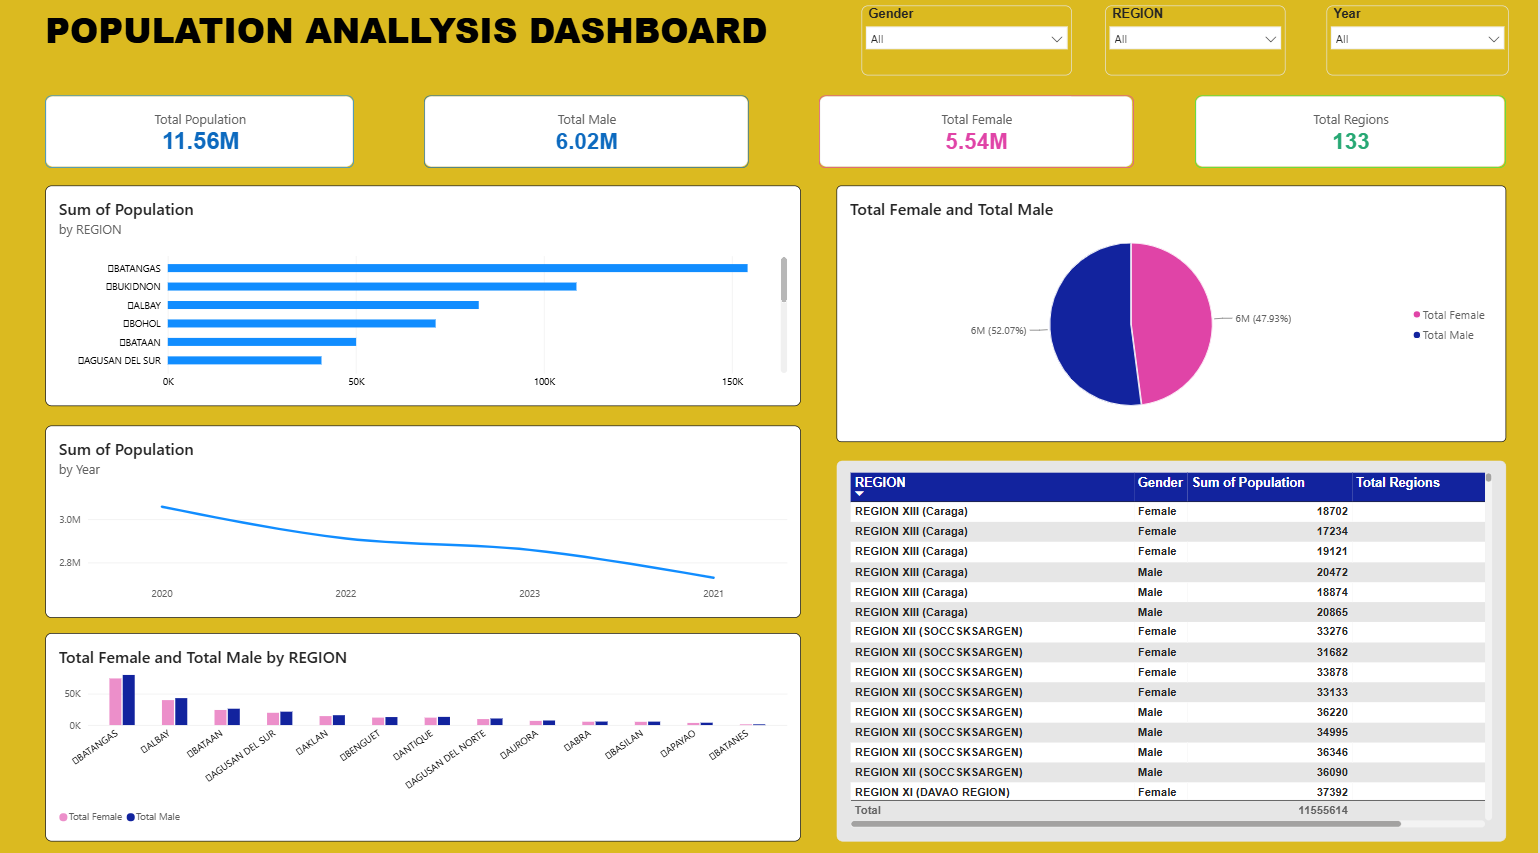

Layout of this report page (visuals, bound fields, positions):
{"tool":"powerbi","page":{"name":"Page 1","canvas":[1920,1080],"ordinal":0},"visuals":[{"type":"textbox","box":[57.5,15,965,87.5],"z":0},{"type":"cardVisual","fields":{"Data":["PSA_POPULATION.Total Population"]},"box":[57.5,127.5,385,90],"z":1000},{"type":"cardVisual","fields":{"Data":["PSA_POPULATION.Total Male"]},"box":[530,127.5,405,90],"z":2000},{"type":"cardVisual","fields":{"Data":["PSA_POPULATION.Total Female"]},"box":[1022.5,127.5,392.5,90],"z":3000},{"type":"cardVisual","fields":{"Data":["PSA_POPULATION.Total Regions"]},"box":[1492.5,127.5,387.5,90],"z":4000},{"type":"clusteredBarChart","fields":{"Category":["PSA_POPULATION.REGION"],"Y":["Sum(PSA_POPULATION.Population)"]},"box":[57.5,240,942.5,275],"z":5000},{"type":"clusteredColumnChart","fields":{"Category":["PSA_POPULATION.REGION"],"Y":["PSA_POPULATION.Total Female","PSA_POPULATION.Total Male"]},"box":[57.5,797.5,942.5,260],"z":6000},{"type":"lineChart","fields":{"Category":["PSA_POPULATION.Year"],"Y":["Sum(PSA_POPULATION.Population)"]},"box":[57.5,540,942.5,240],"z":7000},{"type":"pieChart","fields":{"Y":["PSA_POPULATION.Total Female","PSA_POPULATION.Total Male"]},"box":[1045,240,835,320],"z":8000},{"type":"tableEx","fields":{"Values":["PSA_POPULATION.REGION","PSA_POPULATION.Gender","Sum(PSA_POPULATION.Population)","PSA_POPULATION.Total Regions","PSA_POPULATION.Year"]},"box":[1045,582.5,835,475],"z":9000},{"type":"slicer","fields":{"Values":["PSA_POPULATION.Gender"]},"box":[1075,15,262.5,87.5],"z":10000},{"type":"slicer","fields":{"Values":["PSA_POPULATION.REGION"]},"box":[1380,15,225,87.5],"z":11000},{"type":"slicer","fields":{"Values":["PSA_POPULATION.Year"]},"box":[1655,15,227.5,87.5],"z":12000}]}

Visuals, with their boxes in screenshot pixels (x1, y1, x2, y2), scaled from the page's 1920x1080 canvas onto the 1540x853 screenshot:
textbox: box=[46, 12, 820, 81]
cardVisual - PSA_POPULATION.Total Population: box=[46, 101, 355, 172]
cardVisual - PSA_POPULATION.Total Male: box=[425, 101, 750, 172]
cardVisual - PSA_POPULATION.Total Female: box=[820, 101, 1135, 172]
cardVisual - PSA_POPULATION.Total Regions: box=[1197, 101, 1508, 172]
clusteredBarChart - PSA_POPULATION.REGION x Sum(PSA_POPULATION.Population): box=[46, 190, 802, 407]
clusteredColumnChart - PSA_POPULATION.REGION x PSA_POPULATION.Total Female: box=[46, 630, 802, 835]
lineChart - PSA_POPULATION.Year x Sum(PSA_POPULATION.Population): box=[46, 426, 802, 616]
pieChart - PSA_POPULATION.Total Female x PSA_POPULATION.Total Male: box=[838, 190, 1508, 442]
tableEx - PSA_POPULATION.REGION x PSA_POPULATION.Gender: box=[838, 460, 1508, 835]
slicer - PSA_POPULATION.Gender: box=[862, 12, 1073, 81]
slicer - PSA_POPULATION.REGION: box=[1107, 12, 1287, 81]
slicer - PSA_POPULATION.Year: box=[1327, 12, 1510, 81]
